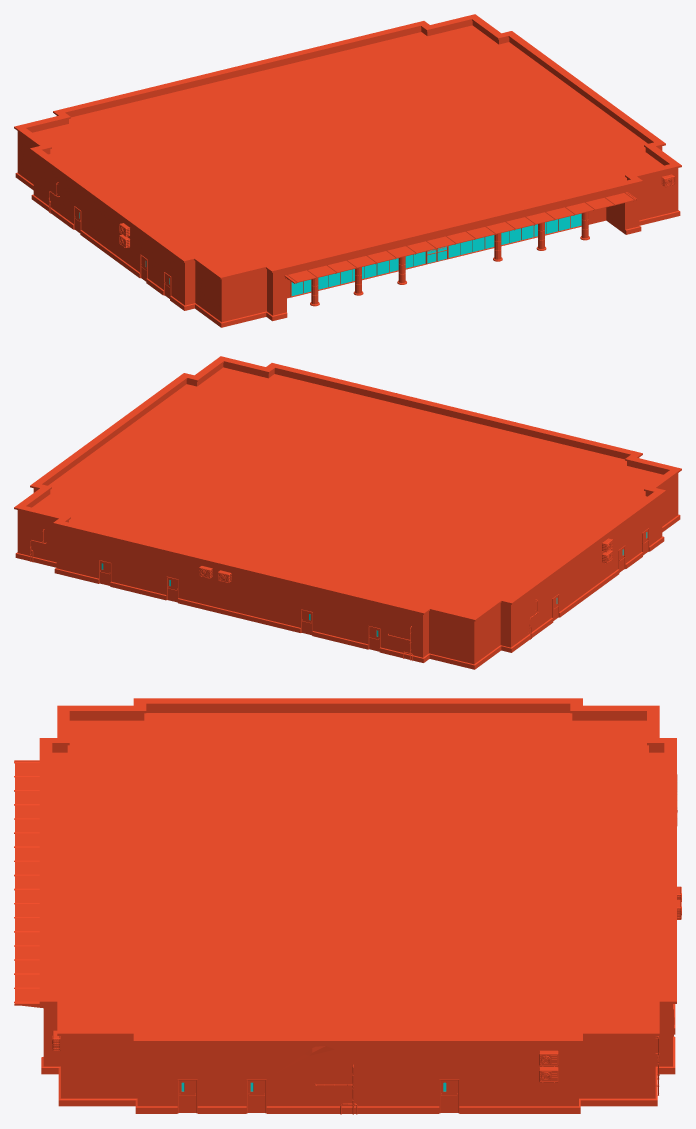
The model's file is SM_Skyscraper_A_Base_City.fbx.
The picture shows the model from 3 angles, top to bottom: view 1: azimuth 30°, elevation 25°; view 2: azimuth 150°, elevation 25°; view 3: azimuth 270°, elevation 25°; orthographic projection. The views are drawn at different scales.
Parts seen in each view (by area): view 1: SM_Skyscraper_A_Base_City; view 2: SM_Skyscraper_A_Base_City; view 3: SM_Skyscraper_A_Base_City.
Boxes of the visible parts, x1=… form: SM_Skyscraper_A_Base_City: x1=14, y1=14, x2=681, y2=327; SM_Skyscraper_A_Base_City: x1=14, y1=356, x2=681, y2=669; SM_Skyscraper_A_Base_City: x1=14, y1=698, x2=681, y2=1114.
Size of the model in its own units: 46.94 by 4.65 by 38.21.
